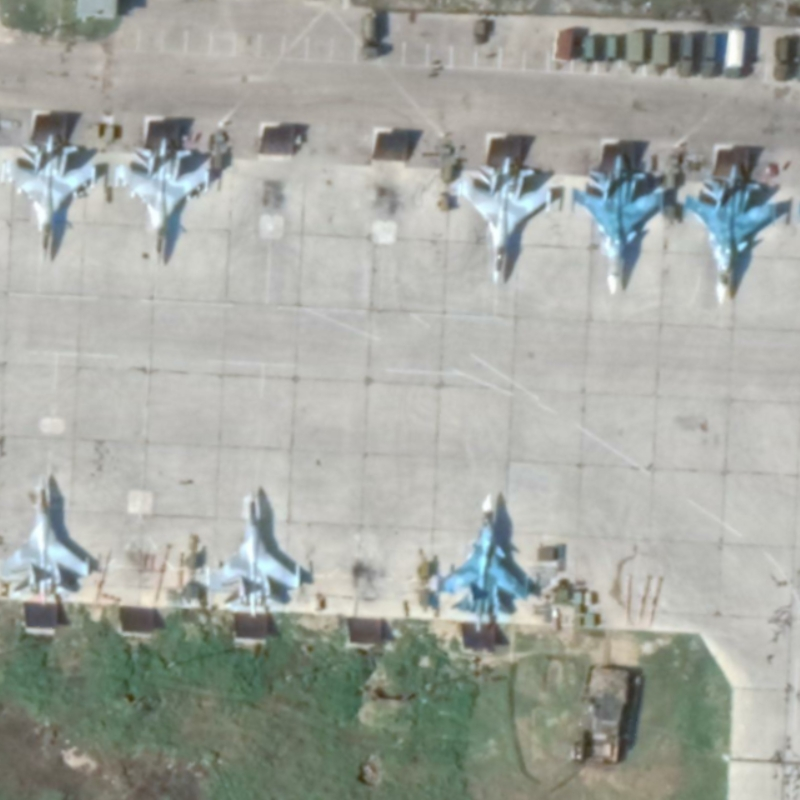A1: (200, 487, 305, 621), (454, 152, 557, 286), (113, 134, 213, 263), (7, 131, 99, 265), (1, 475, 93, 606)
A19: (566, 151, 668, 298), (680, 162, 780, 307), (434, 488, 531, 635)
